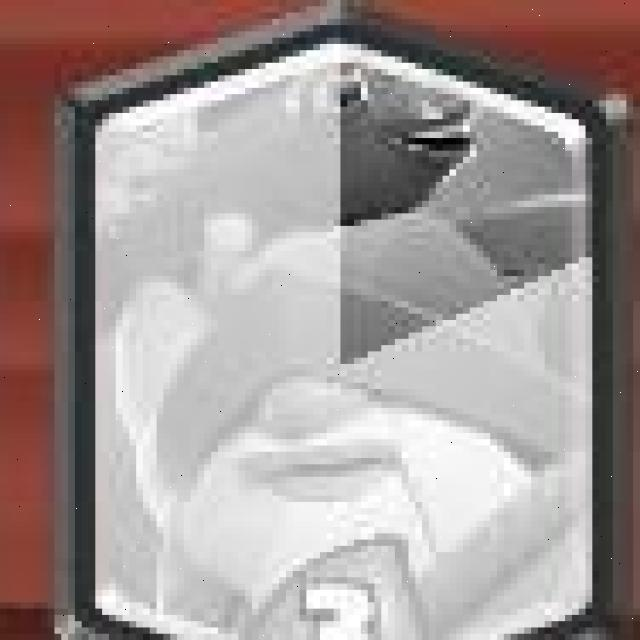Fisherman: (64, 17, 618, 640)
